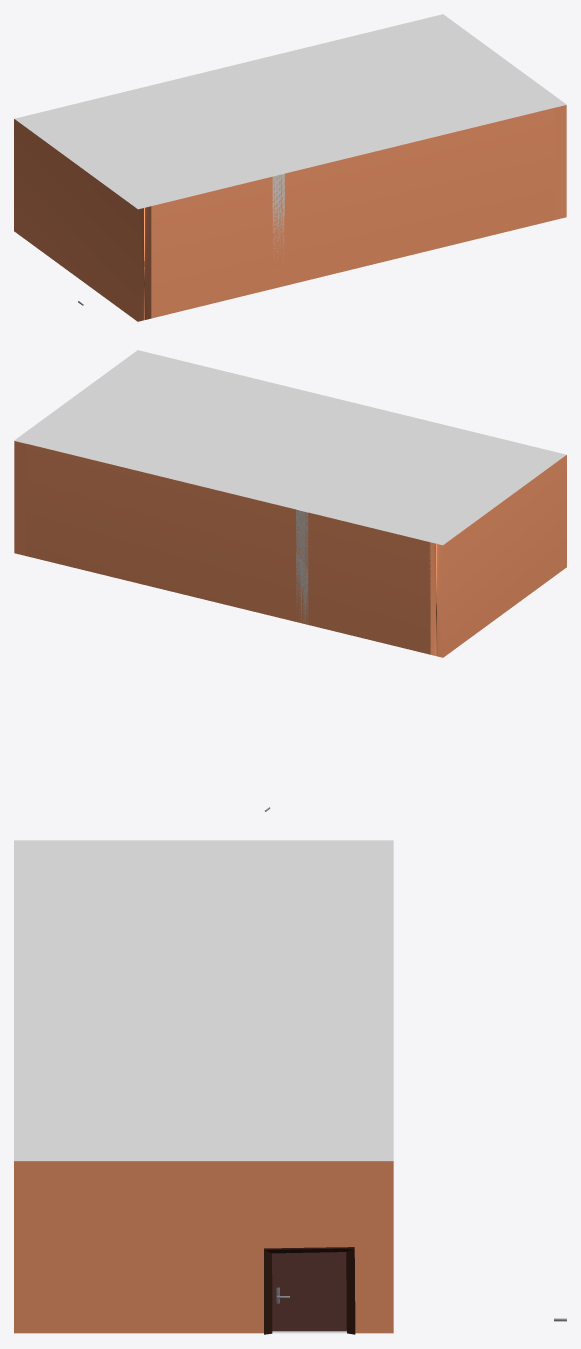
Rendered from origoVecerka.fbx.
3 renders of one model, top to bottom at view 1: azimuth 30°, elevation 25°; view 2: azimuth 150°, elevation 25°; view 3: azimuth 270°, elevation 25°, orthographic. The views are drawn at different scales.
Visible parts, largest first — view 1: Plane.005, Plane.002, Plane.003, Plane.004, Plane.009; view 2: Plane.005, Plane.001, Plane.003, Plane.004, Plane.009; view 3: Plane.005, Plane.004, Cube.001.
Boxes of the visible parts, box(x1,y1,x2,y2) form: Plane.005: box(14, 14, 566, 209); Plane.002: box(151, 108, 555, 318); Plane.003: box(14, 119, 151, 321); Plane.004: box(554, 105, 566, 219); Plane.009: box(272, 173, 284, 262); Plane.005: box(14, 350, 566, 545); Plane.001: box(25, 444, 430, 654); Plane.003: box(429, 455, 566, 657); Plane.004: box(14, 441, 26, 555); Plane.009: box(296, 510, 308, 623); Plane.005: box(14, 840, 393, 1160); Plane.004: box(14, 1161, 393, 1334); Cube.001: box(272, 1252, 346, 1331).
Bounding box in the file's own units: 40181 × 22695 × 29132.
